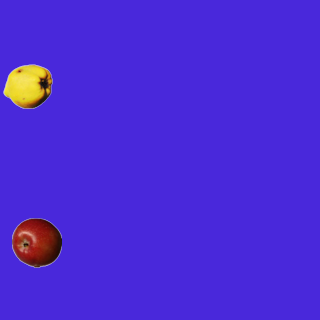Apple Braeburn: (11, 217, 61, 267)
Quince: (2, 61, 52, 111)
